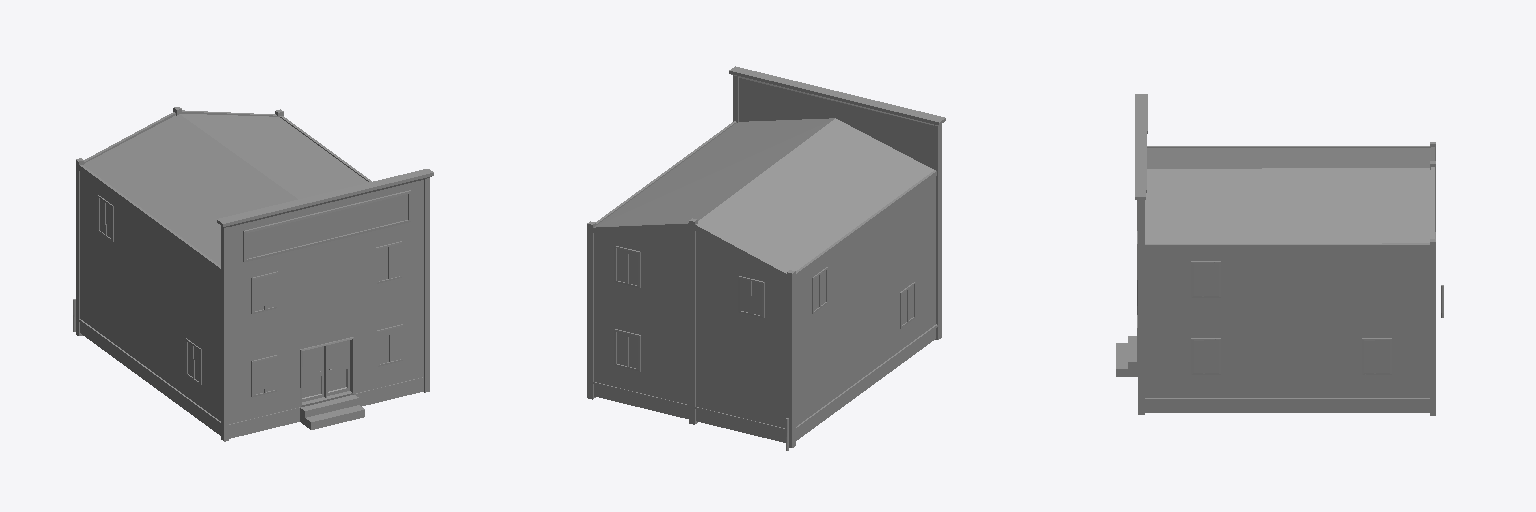
File: bank.obj
3 views of the same model, side by side, from view 1: azimuth 30°, elevation 25°; view 2: azimuth 150°, elevation 25°; view 3: azimuth 270°, elevation 25° (orthographic).
Parts seen in each view (by area): view 1: west_town_finish; view 2: west_town_finish; view 3: west_town_finish.
Boxes of the visible parts, x1=… form: west_town_finish: x1=73, y1=107, x2=433, y2=441; west_town_finish: x1=587, y1=66, x2=945, y2=450; west_town_finish: x1=1116, y1=94, x2=1443, y2=415.
Bounding box in the file's own units: 0.6226 × 0.6254 × 0.8399.